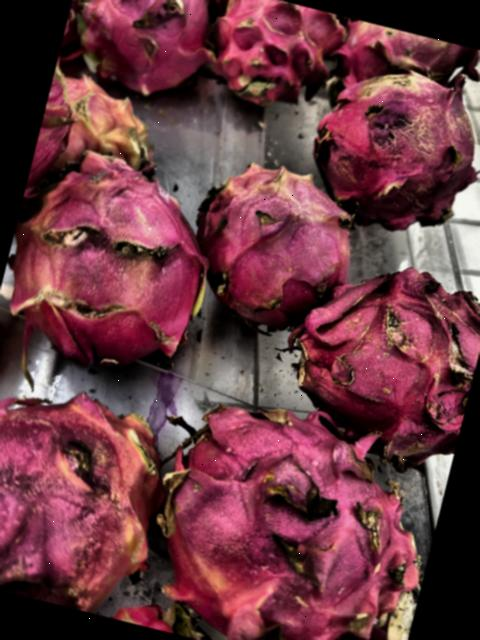buah-naga-belum-matang: (174, 144, 368, 328), (304, 50, 480, 234), (38, 70, 164, 184)
buah-naga-matang: (125, 363, 458, 640), (0, 130, 223, 368), (0, 343, 186, 621), (287, 249, 480, 464), (335, 17, 480, 103)
